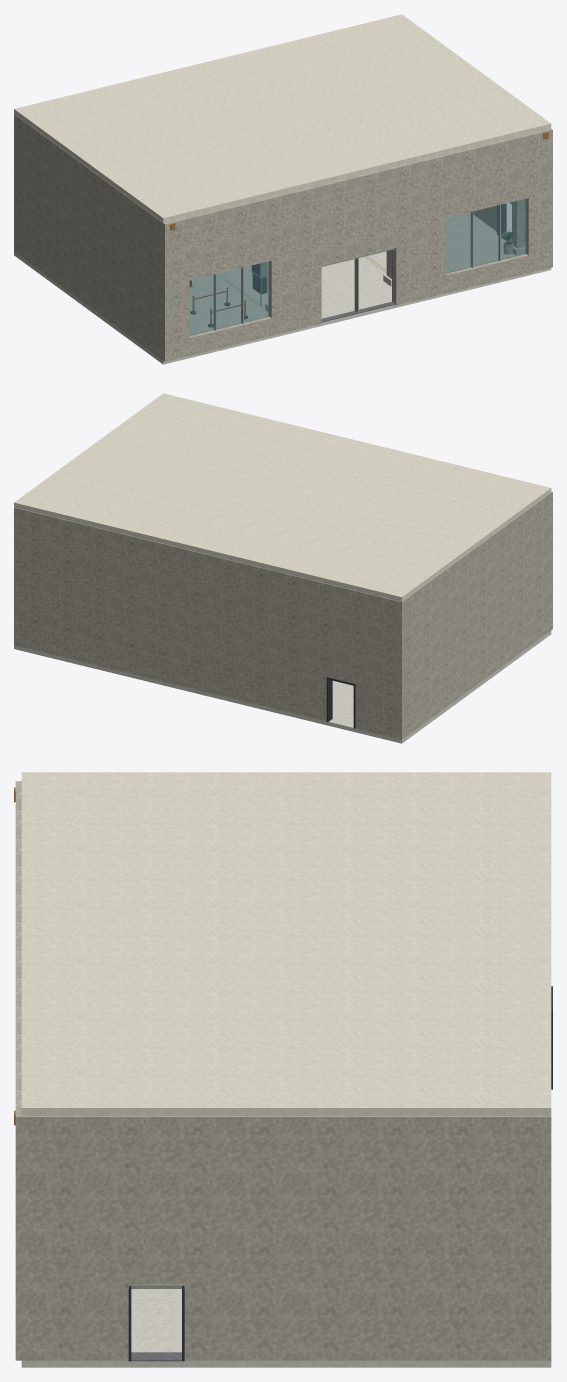
3 views of the same model, one above another, from view 1: azimuth 30°, elevation 25°; view 2: azimuth 150°, elevation 25°; view 3: azimuth 270°, elevation 25° (orthographic). The views are drawn at different scales.
Visible parts, largest first — view 1: VIS_0037_VIS_West_Wall, VIS_0084_VIS_Ceiling_Bay_0_1, VIS_0104_VIS_Ceiling_Bay_2_1, VIS_0094_VIS_Ceiling_Bay_1_1, VIS_0079_VIS_Ceiling_Bay_0_0, VIS_0099_VIS_Ceiling_Bay_2_0, VIS_0089_VIS_Ceiling_Bay_1_0, VIS_0020_VIS_Front_Masonry_1, VIS_0021_VIS_Front_Masonry_2, VIS_0033_VIS_Main_Door_Header, VIS_0024_VIS_Front_Window_Header_0, VIS_0029_VIS_Front_Window_Header_1 (+10 smaller); view 2: VIS_0039_VIS_Back_Wall_1, VIS_0037_VIS_West_Wall, VIS_0079_VIS_Ceiling_Bay_0_0, VIS_0089_VIS_Ceiling_Bay_1_0, VIS_0099_VIS_Ceiling_Bay_2_0, VIS_0084_VIS_Ceiling_Bay_0_1, VIS_0094_VIS_Ceiling_Bay_1_1, VIS_0104_VIS_Ceiling_Bay_2_1, VIS_0038_VIS_Back_Wall_0, VIS_0040_VIS_Back_Door_Lintel, VIS_0000_VIS_Marble_Floor_0_0, VIS_0034_VIS_East_Wall_0 (+3 smaller); view 3: VIS_0034_VIS_East_Wall_0, VIS_0099_VIS_Ceiling_Bay_2_0, VIS_0104_VIS_Ceiling_Bay_2_1, VIS_0079_VIS_Ceiling_Bay_0_0, VIS_0084_VIS_Ceiling_Bay_0_1, VIS_0089_VIS_Ceiling_Bay_1_0, VIS_0094_VIS_Ceiling_Bay_1_1, VIS_0035_VIS_East_Wall_1, VIS_0036_VIS_East_Door_Lintel, VIS_0015_VIS_Marble_Floor_2_1, VIS_0022_VIS_Front_Masonry_3, VIS_0012_VIS_Marble_Floor_2_0 (+1 smaller).
Part boxes in pixels (x1,y1,x2,y2): VIS_0037_VIS_West_Wall: (14, 114, 161, 358); VIS_0084_VIS_Ceiling_Bay_0_1: (88, 132, 292, 222); VIS_0104_VIS_Ceiling_Bay_2_1: (347, 69, 551, 159); VIS_0094_VIS_Ceiling_Bay_1_1: (218, 100, 421, 191); VIS_0079_VIS_Ceiling_Bay_0_0: (14, 77, 217, 167); VIS_0099_VIS_Ceiling_Bay_2_0: (273, 14, 475, 100); VIS_0089_VIS_Ceiling_Bay_1_0: (143, 46, 346, 131); VIS_0020_VIS_Front_Masonry_1: (268, 185, 321, 335); VIS_0021_VIS_Front_Masonry_2: (393, 154, 446, 305); VIS_0033_VIS_Main_Door_Header: (320, 167, 396, 265); VIS_0024_VIS_Front_Window_Header_0: (187, 197, 271, 280); VIS_0029_VIS_Front_Window_Header_1: (444, 134, 528, 217); VIS_0039_VIS_Back_Wall_1: (14, 508, 328, 721); VIS_0037_VIS_West_Wall: (396, 493, 550, 739); VIS_0079_VIS_Ceiling_Bay_0_0: (272, 511, 476, 601); VIS_0089_VIS_Ceiling_Bay_1_0: (143, 479, 346, 570); VIS_0099_VIS_Ceiling_Bay_2_0: (14, 448, 217, 538); VIS_0084_VIS_Ceiling_Bay_0_1: (348, 456, 551, 546); VIS_0094_VIS_Ceiling_Bay_1_1: (218, 425, 421, 510); VIS_0104_VIS_Ceiling_Bay_2_1: (89, 393, 292, 479); VIS_0038_VIS_Back_Wall_0: (355, 590, 405, 739); VIS_0040_VIS_Back_Door_Lintel: (328, 584, 354, 683); VIS_0000_VIS_Marble_Floor_0_0: (272, 681, 476, 743); VIS_0034_VIS_East_Wall_0: (14, 507, 19, 646); VIS_0034_VIS_East_Wall_0: (184, 1116, 551, 1360); VIS_0099_VIS_Ceiling_Bay_2_0: (286, 996, 551, 1116); VIS_0104_VIS_Ceiling_Bay_2_1: (21, 996, 286, 1116); VIS_0079_VIS_Ceiling_Bay_0_0: (286, 772, 551, 884); VIS_0084_VIS_Ceiling_Bay_0_1: (21, 772, 286, 884); VIS_0089_VIS_Ceiling_Bay_1_0: (286, 884, 551, 995); VIS_0094_VIS_Ceiling_Bay_1_1: (21, 884, 286, 995); VIS_0035_VIS_East_Wall_1: (21, 1116, 130, 1360); VIS_0036_VIS_East_Door_Lintel: (131, 1116, 183, 1284); VIS_0015_VIS_Marble_Floor_2_1: (21, 1289, 286, 1367); VIS_0022_VIS_Front_Masonry_3: (15, 1096, 27, 1360); VIS_0012_VIS_Marble_Floor_2_0: (286, 1360, 551, 1367).
Bounding box in the file's own units: 24.04 × 8.66 × 16.28.
Materials: 21 (21 with a texture image).
